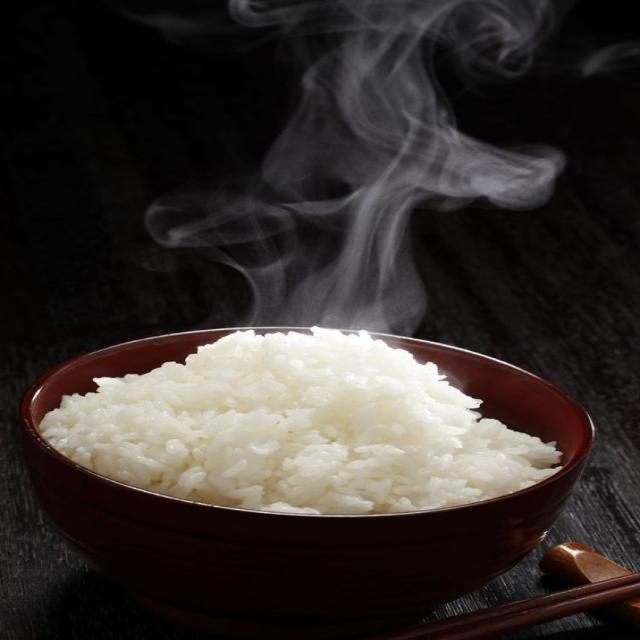nasi_putih: (52, 318, 568, 522)
